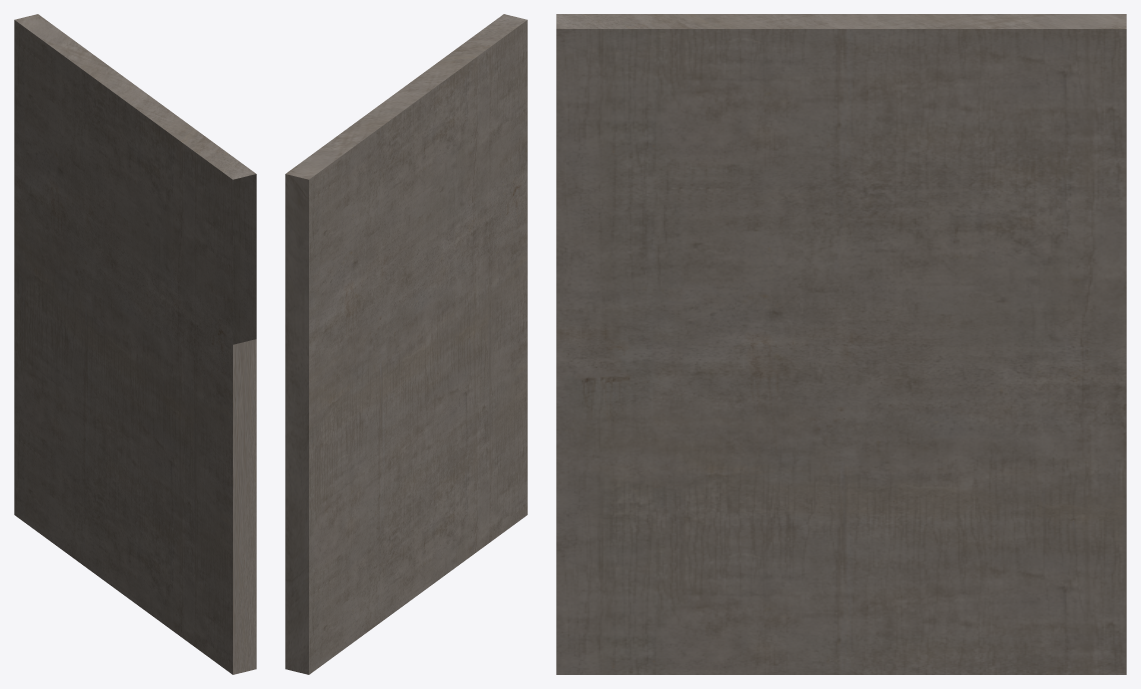
Rendered from wall12_5.obj.
3 renders of one model, left to right at view 1: azimuth 30°, elevation 25°; view 2: azimuth 150°, elevation 25°; view 3: azimuth 270°, elevation 25°, orthographic. The views are drawn at different scales.
Visible parts, largest first — view 1: wall.012_5; view 2: wall.012_5; view 3: wall.012_5.
Part boxes in pixels (bbox=[...]): wall.012_5: bbox=[14, 14, 256, 674]; wall.012_5: bbox=[285, 14, 527, 674]; wall.012_5: bbox=[556, 14, 1126, 674].
Size of the model in its own units: 0.05 by 1 by 0.8.
